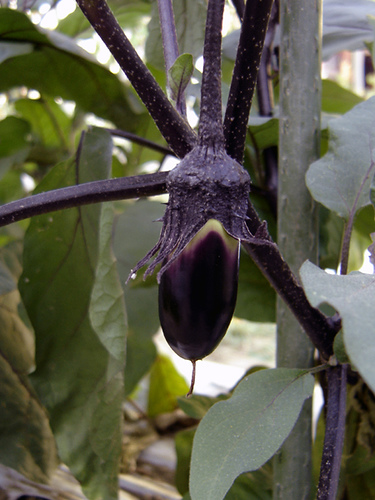eggplant: (149, 142, 259, 368)
